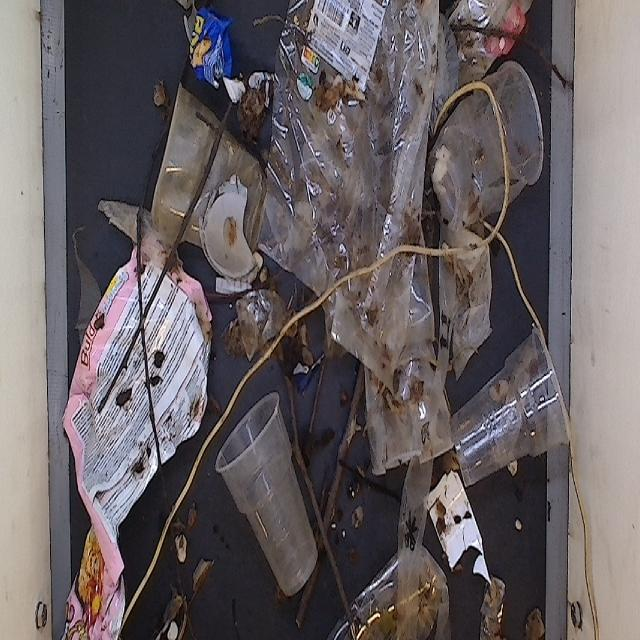food_wrapping: (62, 212, 209, 537), (56, 508, 130, 640), (182, 5, 232, 94)
plastic_cups: (320, 172, 454, 488), (138, 45, 276, 288), (444, 305, 576, 492), (216, 384, 326, 596), (432, 62, 548, 238), (321, 543, 459, 640)
plastic_films: (277, 0, 415, 380)
undef_hard_plastic: (424, 456, 496, 583)
